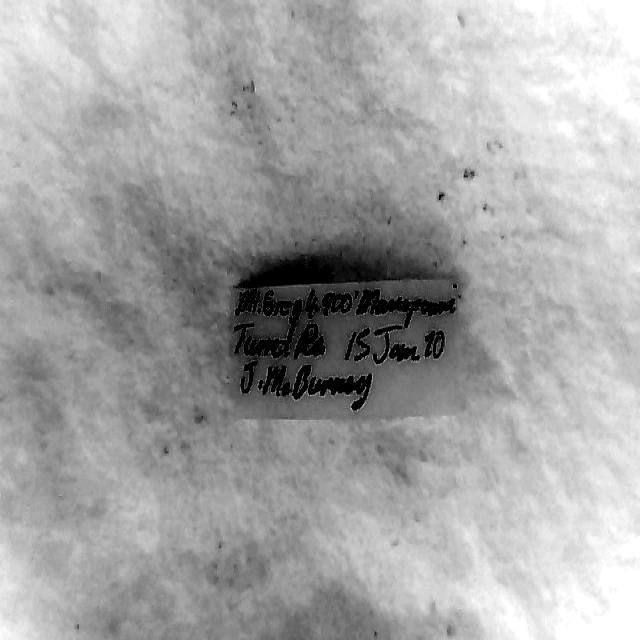hand_label: (230, 278, 464, 418)
